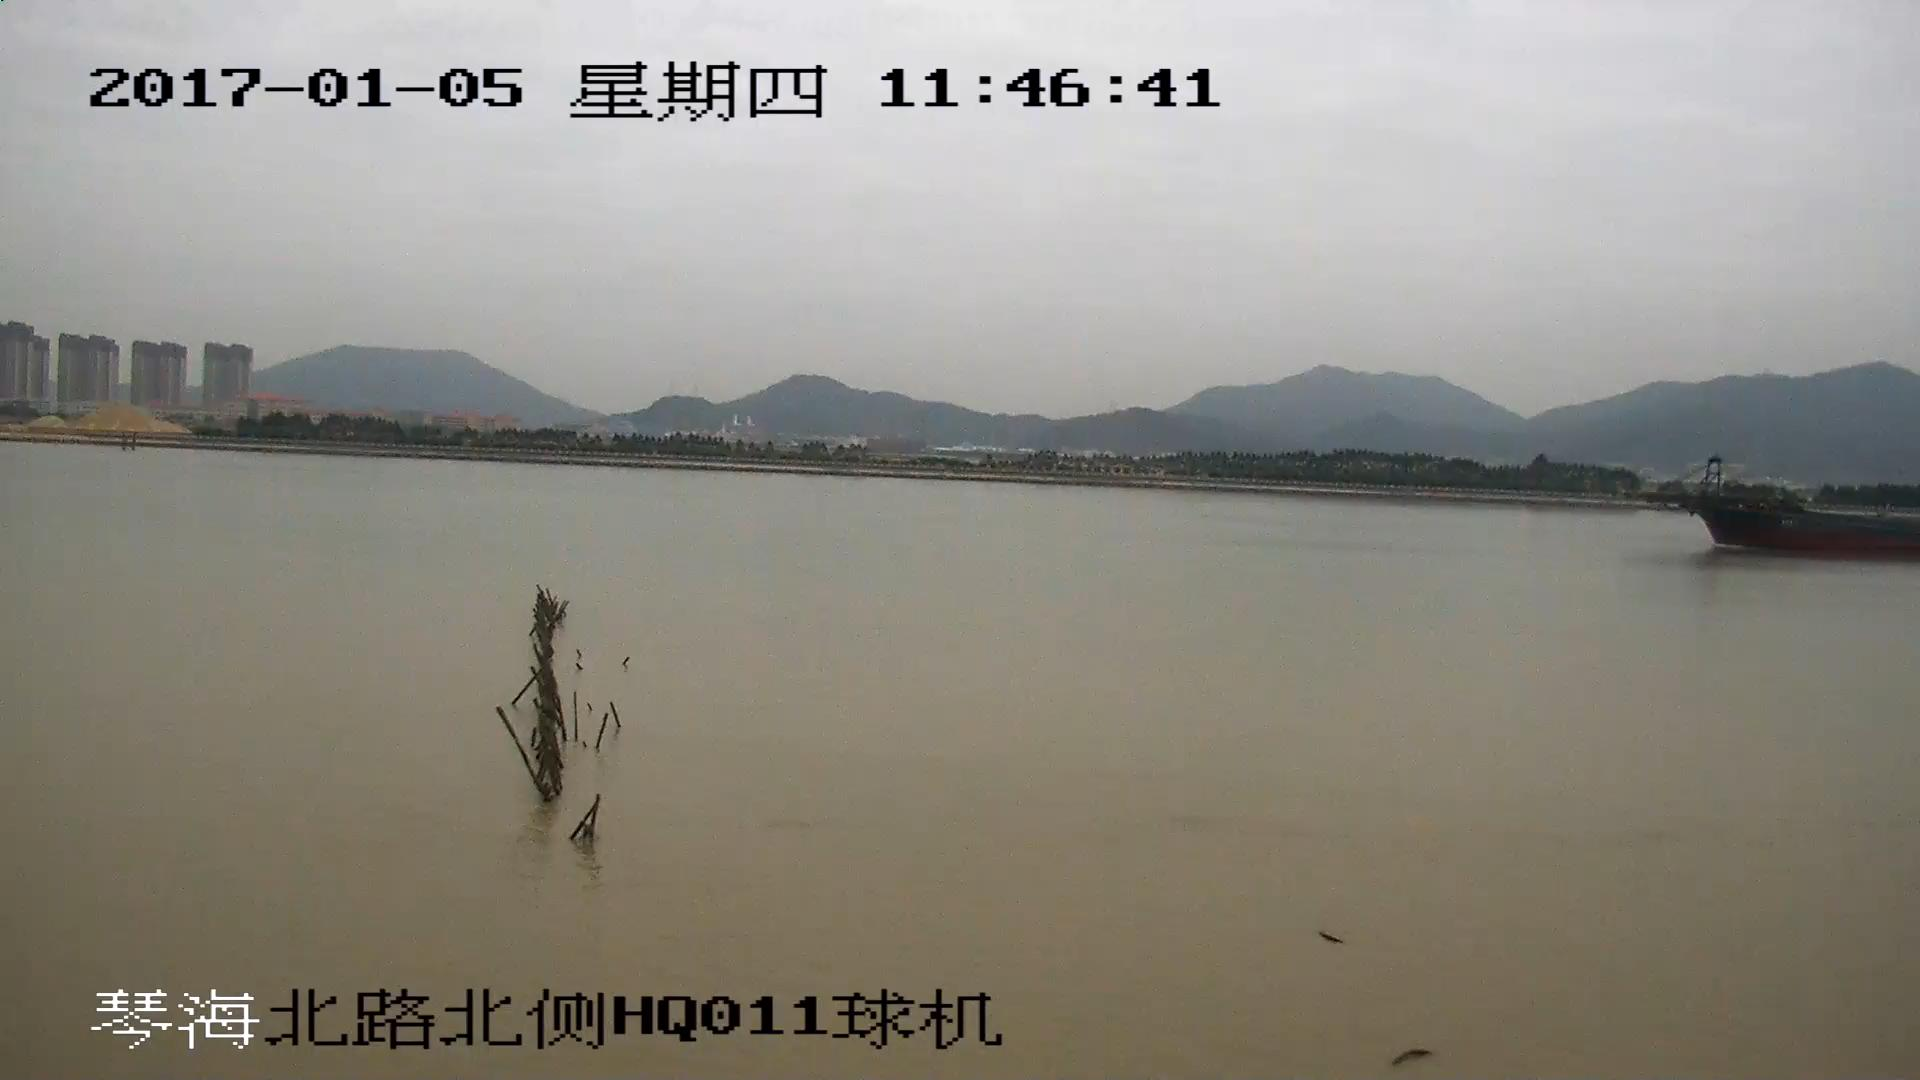bulk cargo carrier: (1641, 466, 1920, 560)
